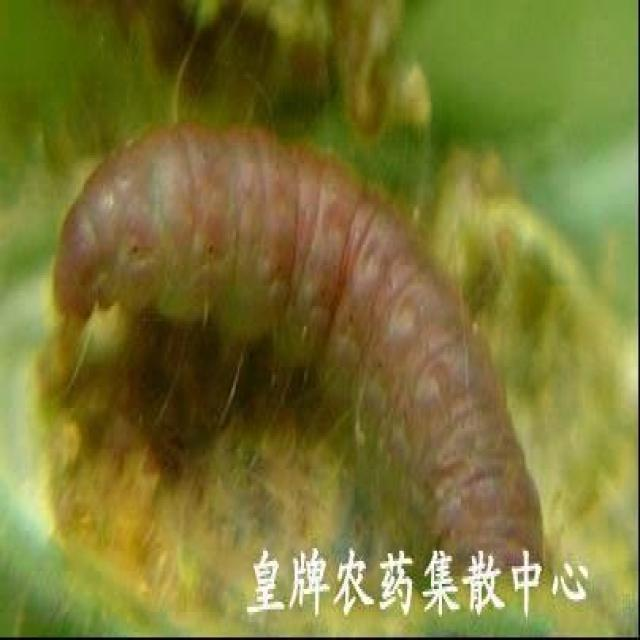peach borer: (63, 112, 548, 568)
